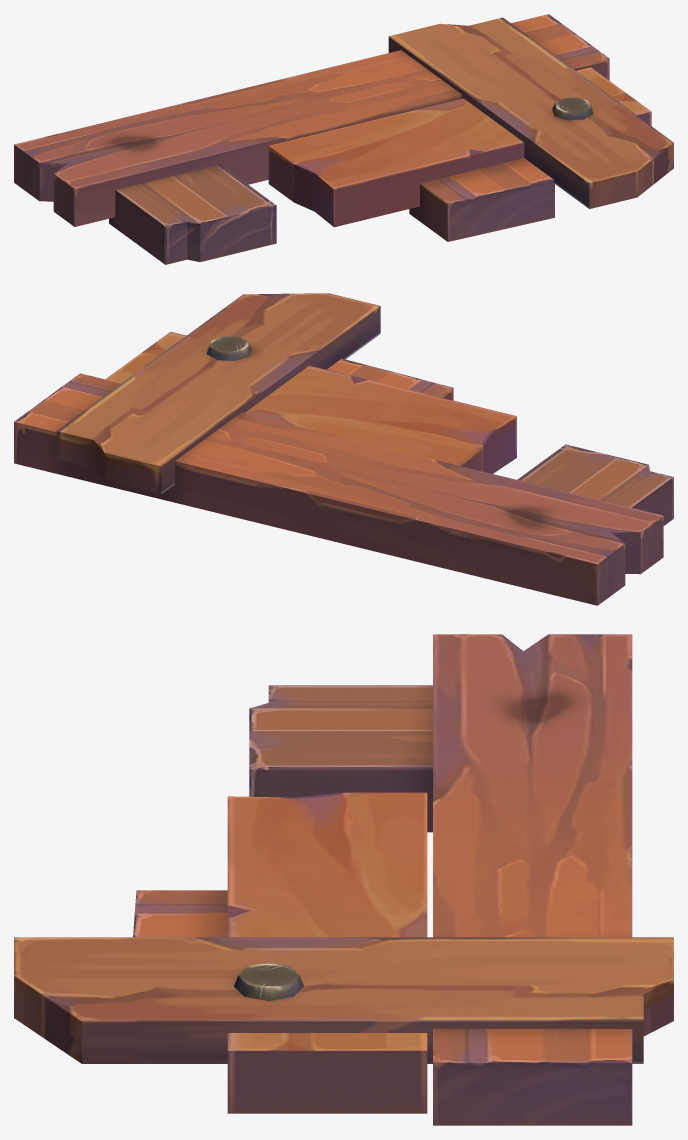
Rendered from scenes_town_road02b.FBX.
The picture shows the model from 3 angles, top to bottom: view 1: azimuth 30°, elevation 25°; view 2: azimuth 150°, elevation 25°; view 3: azimuth 270°, elevation 25°; orthographic projection. The views are drawn at different scales.
Visible parts, largest first — view 1: scenes_town_road02bw; view 2: scenes_town_road02bw; view 3: scenes_town_road02bw.
Part boxes in pixels (x1,y1,x2,y2): scenes_town_road02bw: [14, 14, 673, 264]; scenes_town_road02bw: [14, 293, 673, 605]; scenes_town_road02bw: [14, 634, 673, 1125].
Bounding box in the file's own units: 601 × 71.93 × 391.
